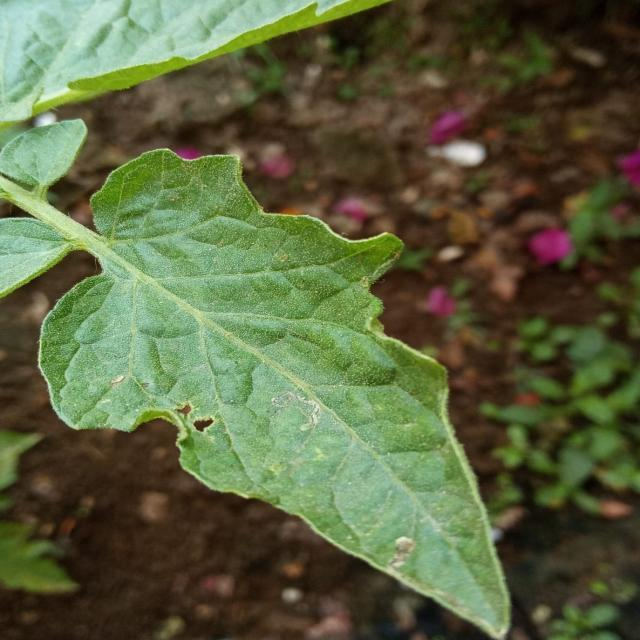Tuta absoluta: (270, 379, 327, 435), (383, 533, 417, 572)
